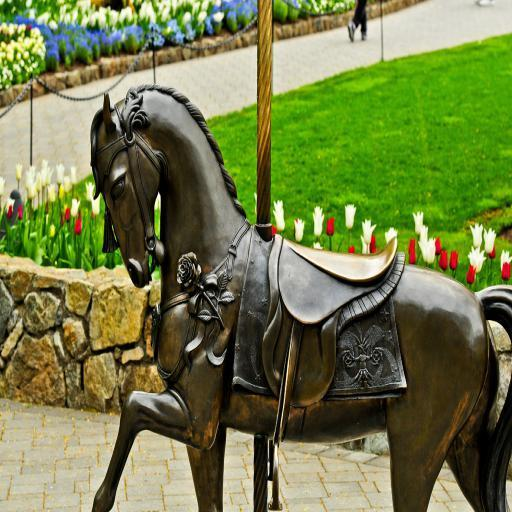horse: (90, 82, 511, 512)
